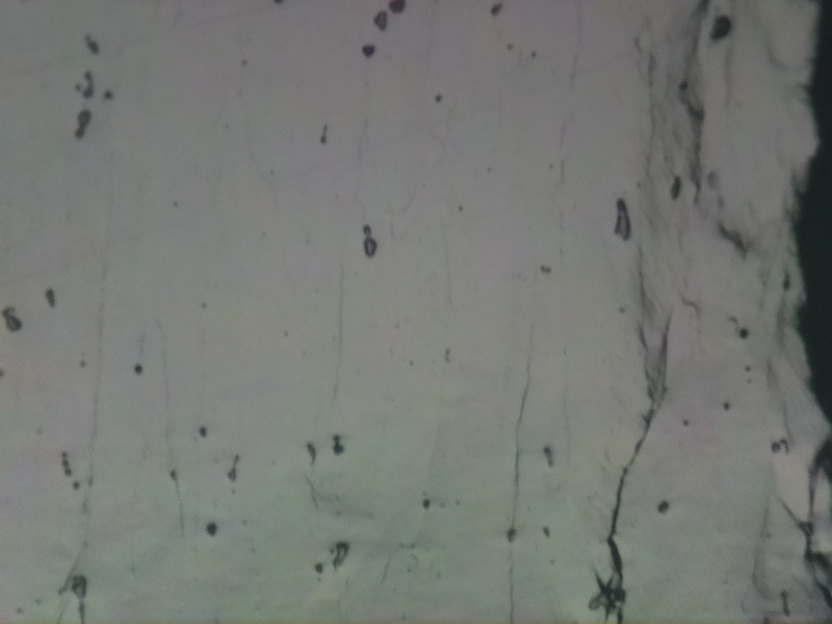crack: (783, 1, 832, 624), (588, 319, 671, 624)
